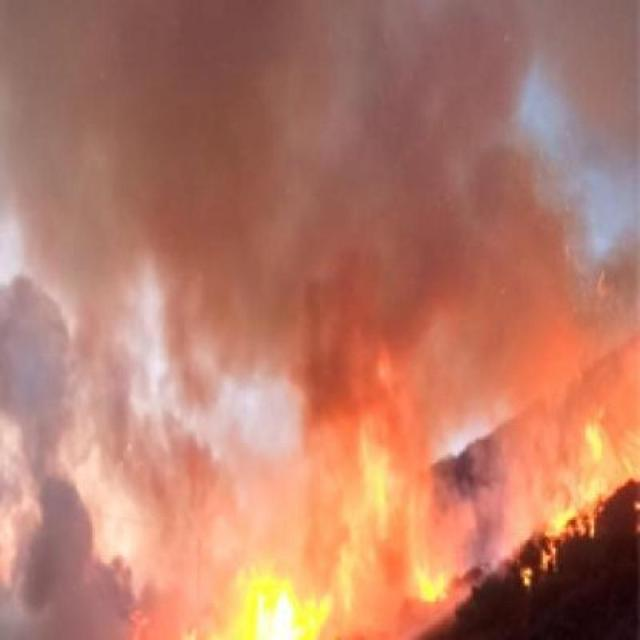Fire: (143, 313, 640, 640)
Smoke: (127, 72, 640, 314), (0, 289, 142, 640)
